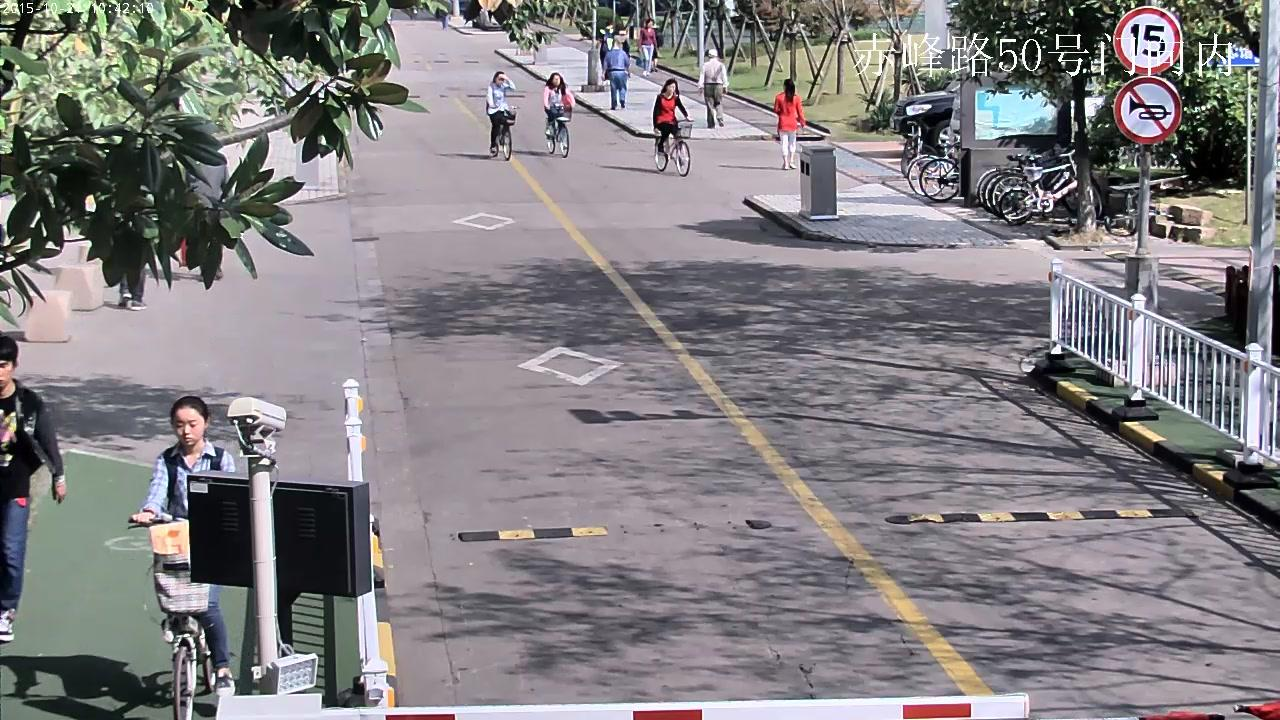person: (125, 395, 238, 720), (131, 395, 236, 697), (0, 336, 66, 643), (652, 78, 695, 177), (652, 79, 689, 165), (485, 71, 519, 161), (773, 79, 805, 170), (543, 72, 575, 158), (698, 48, 729, 129), (485, 71, 515, 153), (543, 72, 575, 139), (601, 40, 630, 110), (635, 17, 656, 77), (598, 22, 614, 81), (649, 18, 664, 71)
